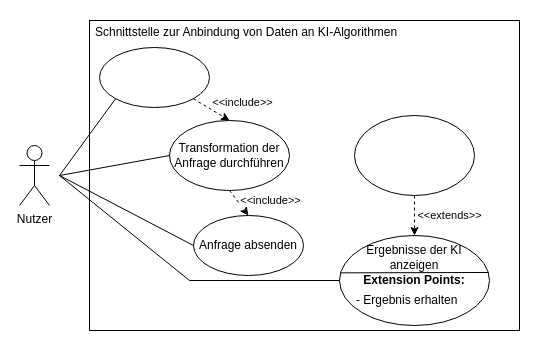
This 537x348 diagram has some shape labels left out. Here are the shapes that lost their labels. From the top down, the centre of each, then its label:
At [154,77]: "Anfrage eingeben".
At [414,155]: "Ergebnis der KI zu Ergebnisliste hinzufügen".
